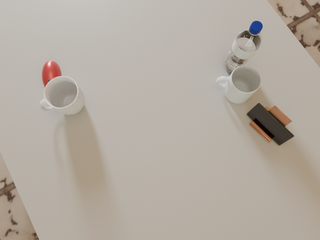bottle: (224, 21, 263, 73)
cup: (39, 76, 85, 115), (216, 65, 261, 103)
mouse: (42, 61, 61, 87)
phone: (247, 103, 294, 145)
